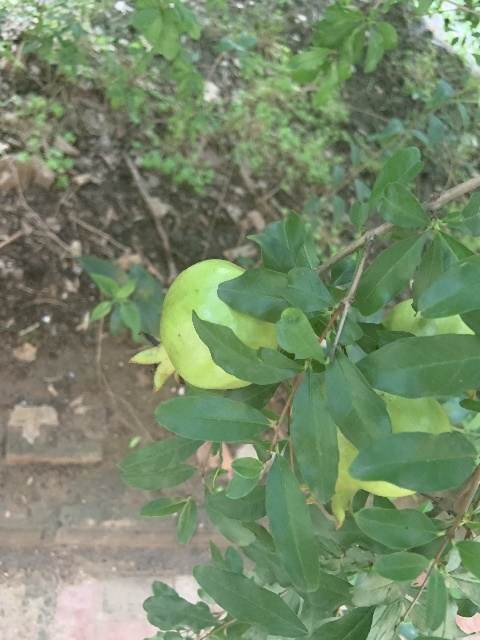mid-growth: (298, 387, 453, 530), (127, 258, 278, 393), (380, 298, 476, 399)
